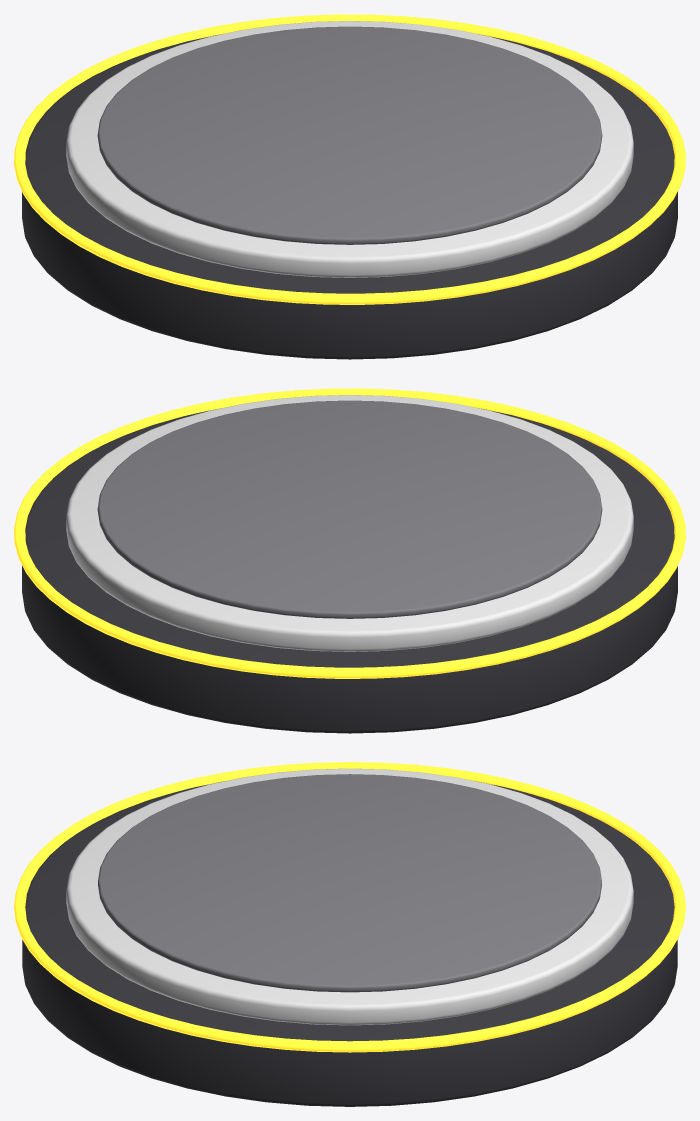
Rendered from podium-europa-medium.glb.
3 renders of one model, top to bottom at view 1: azimuth 30°, elevation 25°; view 2: azimuth 150°, elevation 25°; view 3: azimuth 270°, elevation 25°, orthographic.
Visible parts, largest first — view 1: deck, base, top, Torus; view 2: deck, base, top, Torus; view 3: deck, base, top, Torus.
Part boxes in pixels (bbox=[...]): deck: bbox=[97, 26, 602, 244]; base: bbox=[22, 34, 677, 359]; top: bbox=[66, 21, 633, 277]; Torus: bbox=[14, 14, 685, 304]; deck: bbox=[97, 400, 602, 618]; base: bbox=[22, 408, 677, 733]; top: bbox=[66, 395, 633, 651]; Torus: bbox=[14, 388, 685, 678]; deck: bbox=[98, 774, 601, 992]; base: bbox=[22, 781, 677, 1106]; top: bbox=[66, 768, 633, 1025]; Torus: bbox=[14, 762, 685, 1052].
Size of the model in its own units: 5.33 by 0.79 by 5.33.
